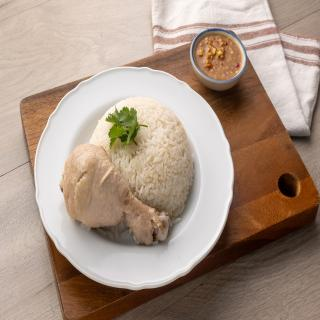carbs: (144, 98, 192, 193), (125, 145, 144, 192), (92, 109, 111, 143), (171, 193, 186, 216), (115, 98, 144, 106)
chicken_rice: (56, 90, 215, 266)
meat: (64, 145, 124, 227), (124, 197, 168, 241)
veg: (111, 108, 143, 146)
